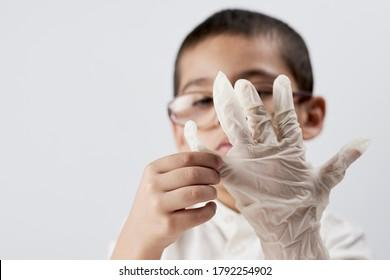gloves: (185, 71, 372, 260)
